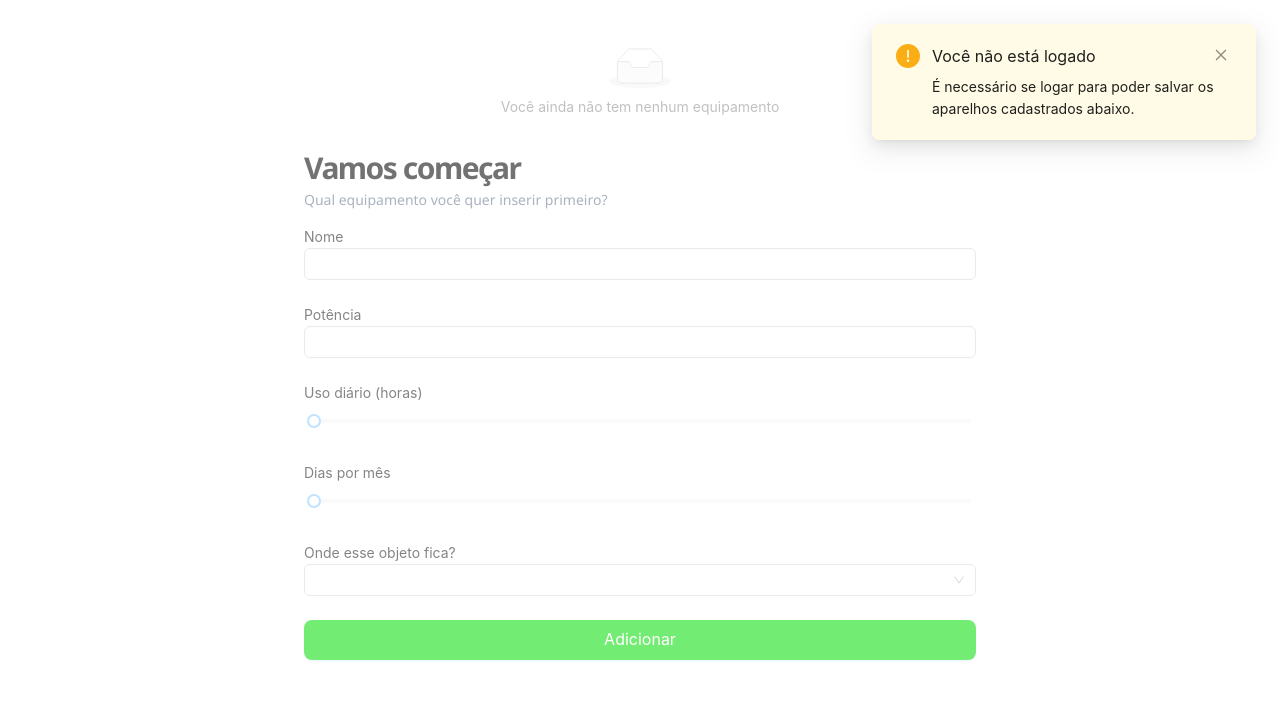
Test: Home page › should display a toast error if inputs are not filled
Click the button with test id "submit-btn" at (640, 640), box [304,620,976,660]
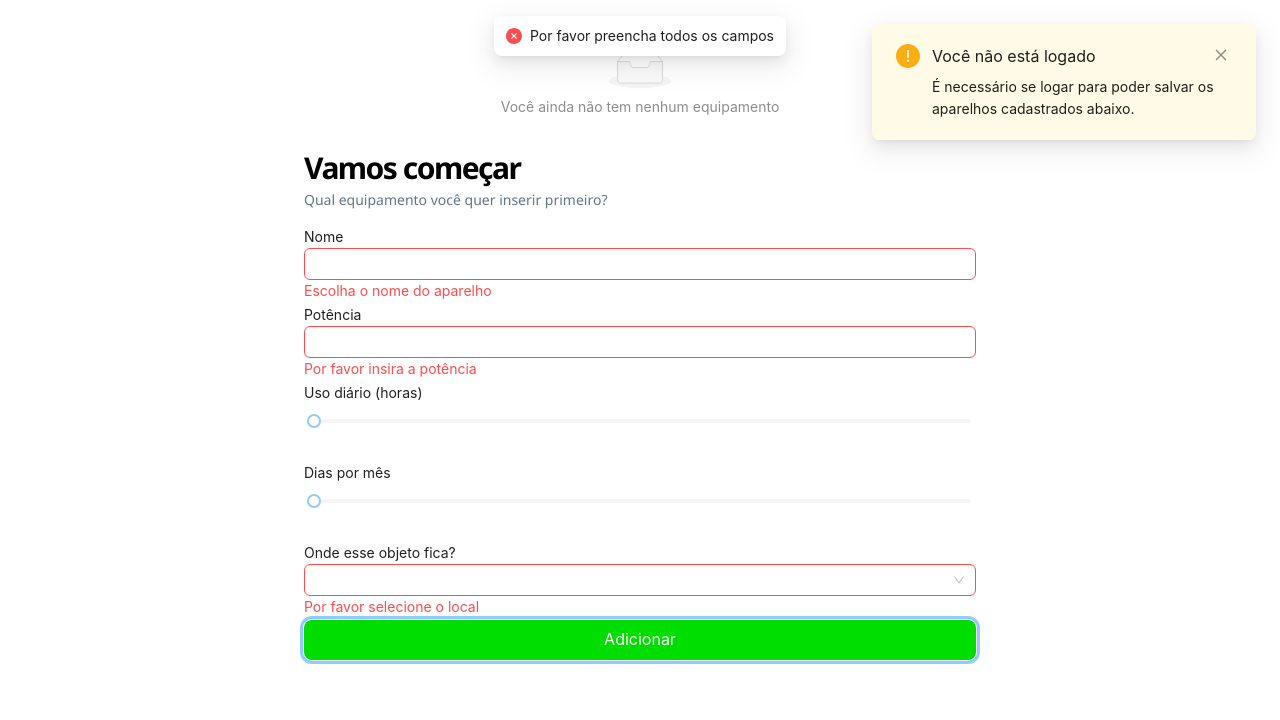
Now the text "Por favor preencha todos os campos" is shown, box [530,25,774,47]
